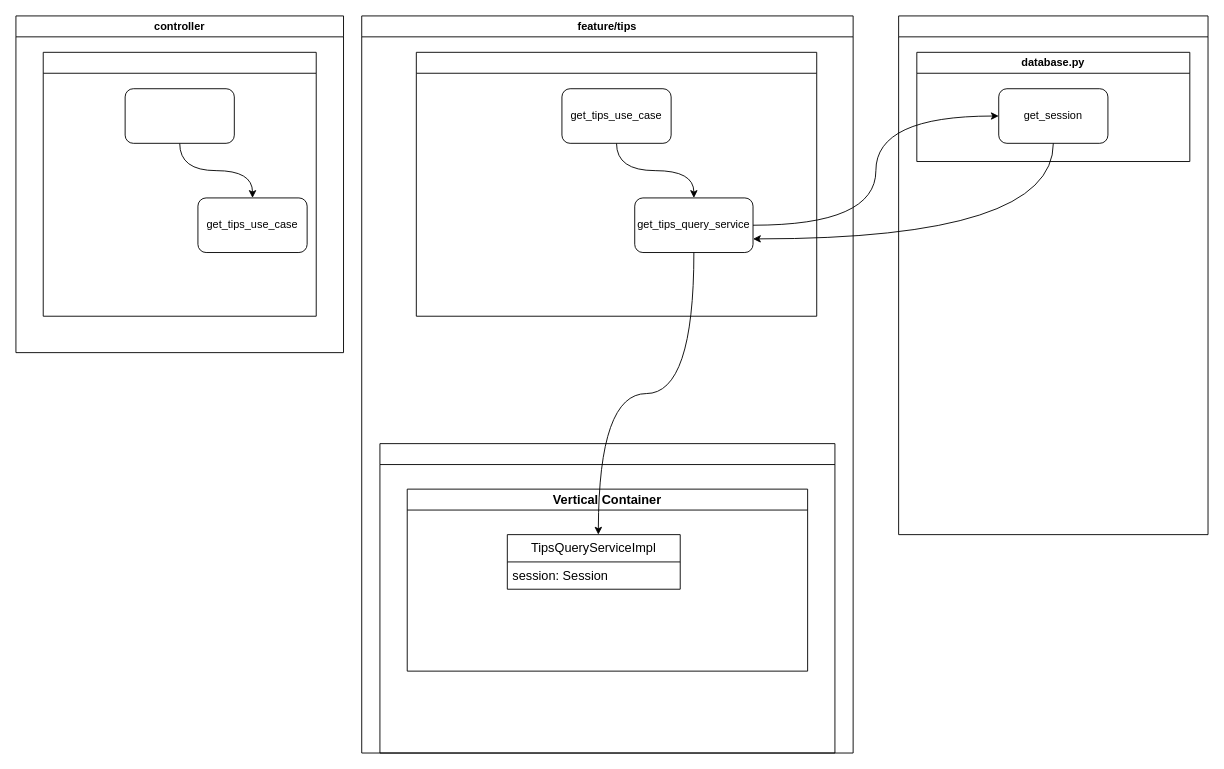
Image size: 1224x769. Some labels were removed from this diagram. The box of each missing label's shape, as (x1, y1, x2, y2) in pixels:
core/database/mysql: (898, 15, 1208, 535)
data: (379, 443, 835, 753)
dependencies.py: (415, 51, 817, 316)
list_tips: (124, 88, 234, 143)
tips.py: (42, 51, 316, 316)
